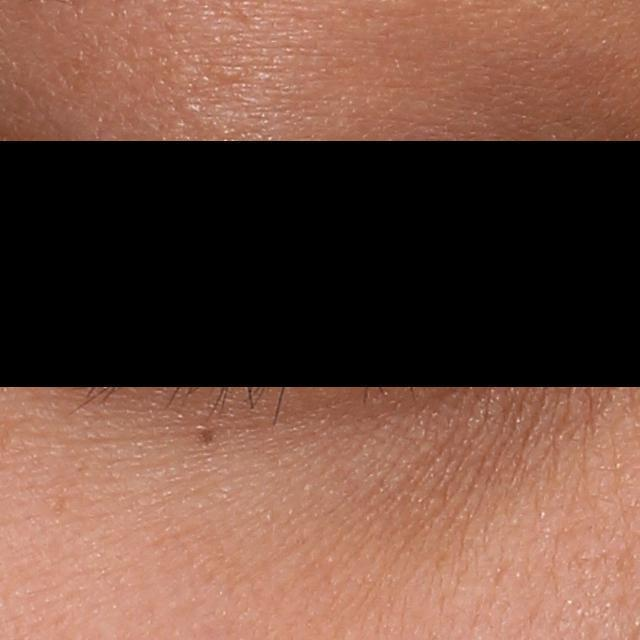nevus: (196, 427, 217, 448)
